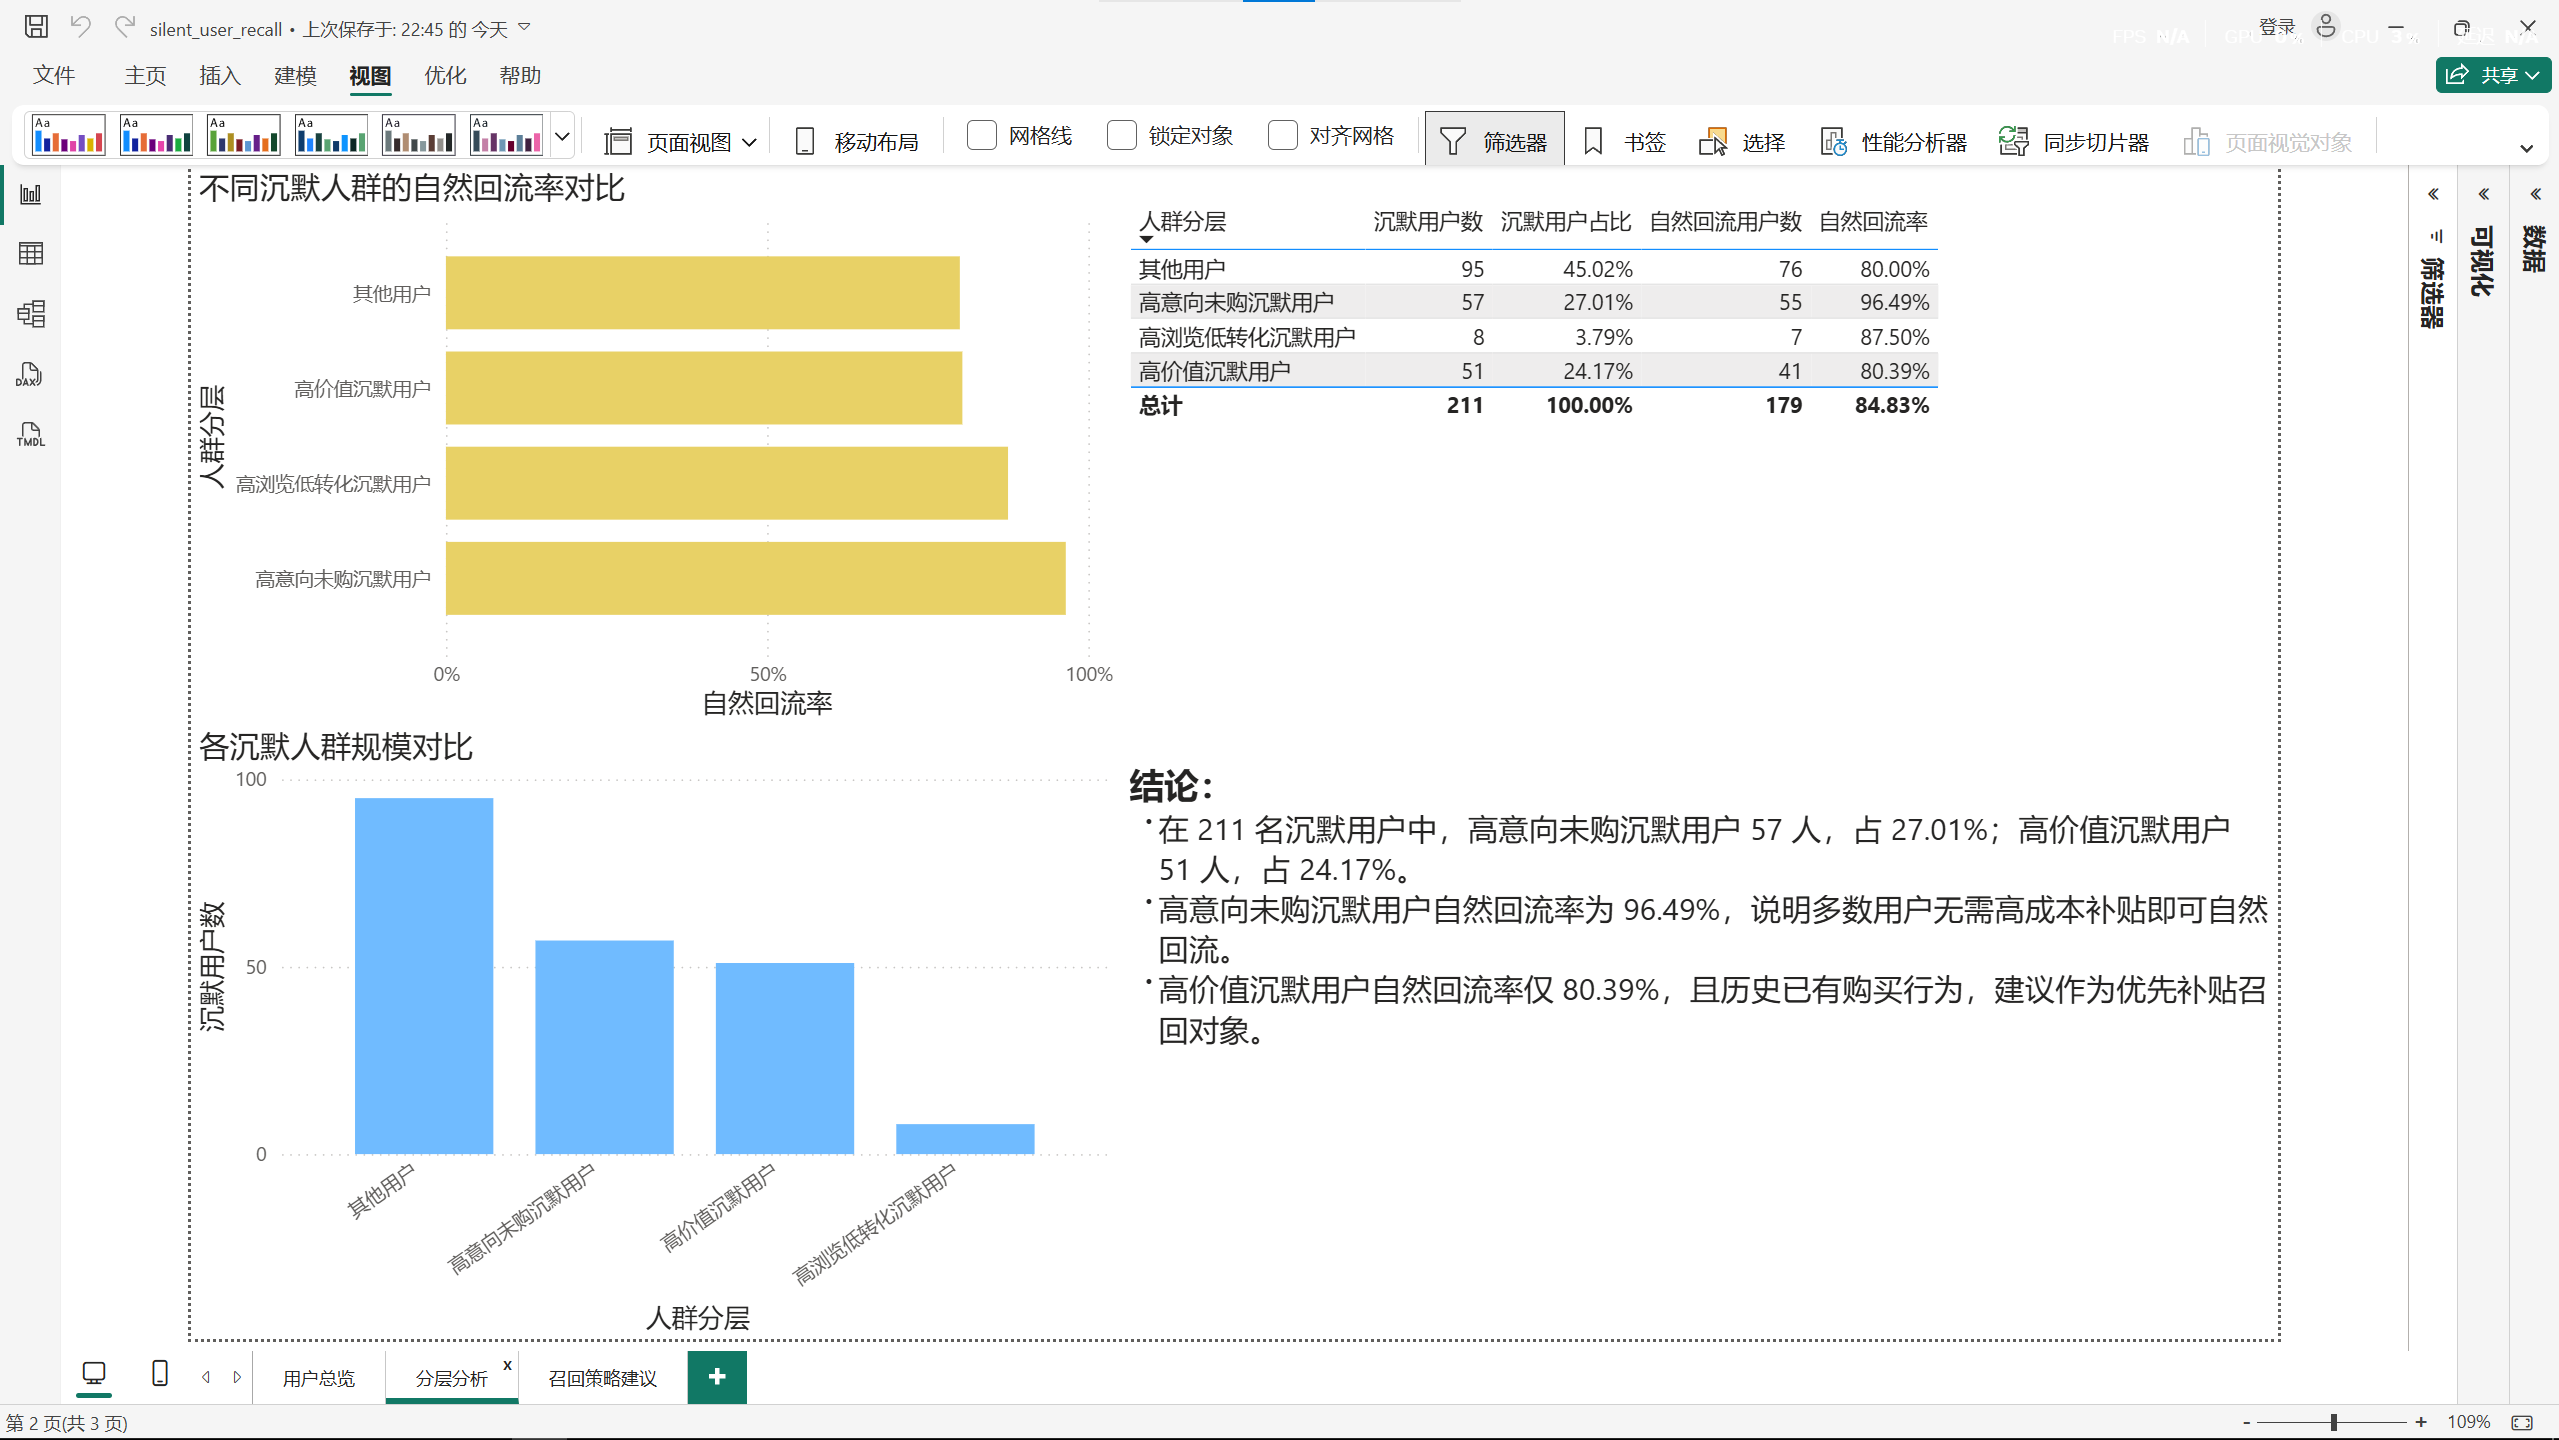

The dashboard page shown, as its layout file describes it:
{"tool":"powerbi","page":{"name":"分层分析","canvas":[1280,720],"ordinal":1},"visuals":[{"type":"tableEx","fields":{"Values":["taobao_project_recall_segment.segment","taobao_project_recall_segment.Segment Silent Users","taobao_project_recall_segment.Silent Share","taobao_project_recall_segment.Segment Returned Users","taobao_project_recall_segment.Segment Natural Return Rate"]},"box":[570,18.6,710,152.9],"z":0},{"type":"clusteredBarChart","title":"不同沉默人群的自然回流率对比","fields":{"Category":["taobao_project_recall_segment.segment"],"Y":["taobao_project_recall_segment.Segment Natural Return Rate"]},"box":[0,0,570,342.9],"z":1000},{"type":"clusteredColumnChart","title":"各沉默人群规模对比","fields":{"Category":["taobao_project_recall_segment.segment"],"Y":["taobao_project_recall_segment.Segment Silent Users"]},"box":[0,342.9,570,377.1],"z":2000},{"type":"textbox","box":[570,360,710,242.9],"z":3000}]}

Visuals, with their boxes on the page's 1280x720 design canvas (x1, y1, x2, y2). These are canvas units, not pixel positions in the 2559x1440 screenshot, which may show the page scaled, cropped or inside an application window:
tableEx - taobao_project_recall_segment.segment x taobao_project_recall_segment.Segment Silent Users: 570:19:1280:172
"不同沉默人群的自然回流率对比" clusteredBarChart: 0:0:570:343
"各沉默人群规模对比" clusteredColumnChart: 0:343:570:720
textbox: 570:360:1280:603
